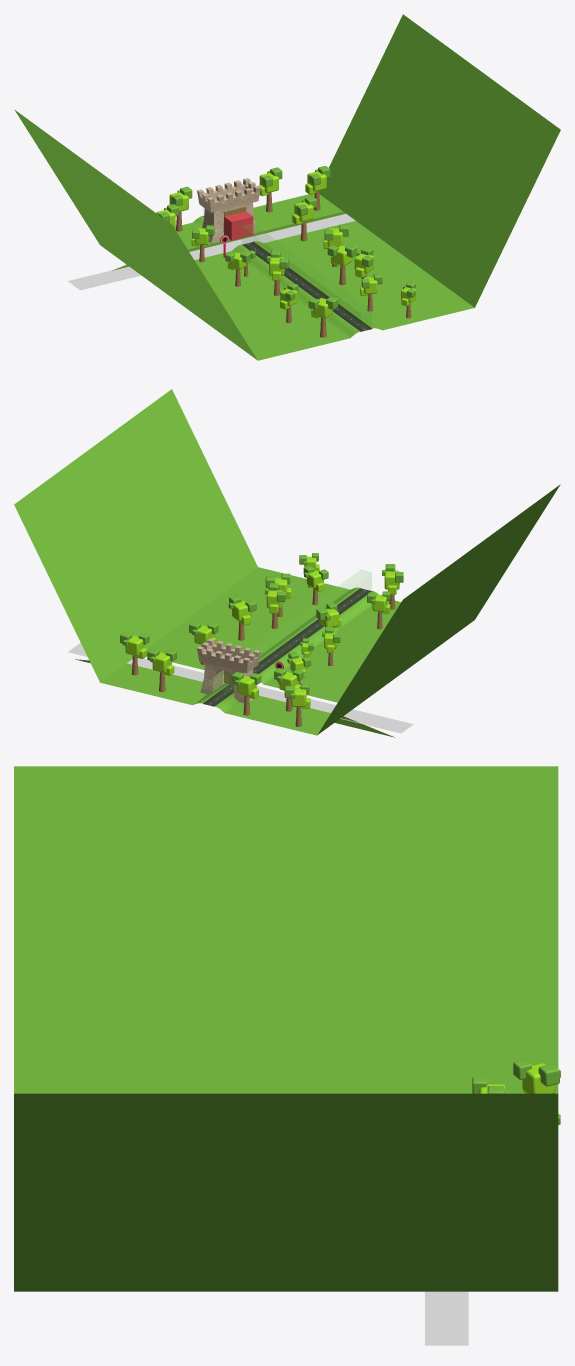
File: IDG_ST_CHUNK_01.fbx
3 views of the same model, one above another, from view 1: azimuth 30°, elevation 25°; view 2: azimuth 150°, elevation 25°; view 3: azimuth 270°, elevation 25° (orthographic). The views are drawn at different scales.
Parts seen in each view (by area): view 1: IGD_ST_CHUNK_LEVEL, IGD_ST_TREES, IGD_ST_ROAD_TRIGGER, IGD_WATER, IGD_ST_GATE, IGD_ST_FALL_TRIGGER; view 2: IGD_ST_CHUNK_LEVEL, IGD_ST_TREES, IGD_ST_ROAD_TRIGGER, IGD_ST_GATE, IGD_WATER; view 3: IGD_ST_CHUNK_LEVEL, IGD_WATER, IGD_ST_TREES.
Boxes of the visible parts, x1,y1,x2,y2 form: IGD_ST_CHUNK_LEVEL: [14, 14, 560, 360]; IGD_ST_TREES: [156, 166, 416, 337]; IGD_ST_ROAD_TRIGGER: [203, 208, 371, 330]; IGD_WATER: [68, 214, 355, 290]; IGD_ST_GATE: [196, 178, 260, 243]; IGD_ST_FALL_TRIGGER: [224, 211, 253, 240]; IGD_ST_CHUNK_LEVEL: [14, 389, 560, 737]; IGD_ST_TREES: [120, 553, 403, 726]; IGD_ST_ROAD_TRIGGER: [203, 570, 371, 705]; IGD_ST_GATE: [196, 638, 260, 702]; IGD_WATER: [68, 643, 413, 733]; IGD_ST_CHUNK_LEVEL: [14, 766, 558, 1291]; IGD_WATER: [425, 1291, 468, 1345]; IGD_ST_TREES: [472, 1059, 560, 1124].
Bounding box in the file's own units: 9229 × 3761 × 6523.
